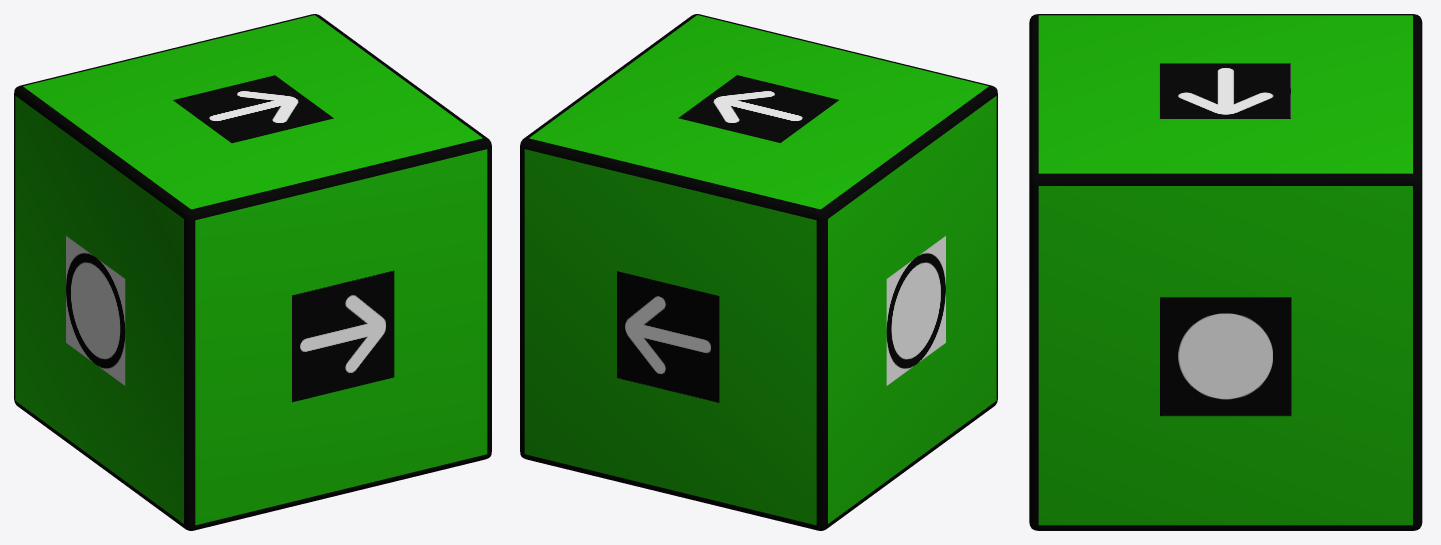
The model's file is BigBoxTapFlowBox_2_2_2_Line.fbx.
3 views of the same model, side by side, from view 1: azimuth 30°, elevation 25°; view 2: azimuth 150°, elevation 25°; view 3: azimuth 270°, elevation 25° (orthographic). The views are drawn at different scales.
Parts seen in each view (by area): view 1: BigBoxTapFlowBox_2_2_2; view 2: BigBoxTapFlowBox_2_2_2; view 3: BigBoxTapFlowBox_2_2_2.
Boxes of the visible parts, x1,y1,x2,y2 form: BigBoxTapFlowBox_2_2_2: [14, 14, 491, 530]; BigBoxTapFlowBox_2_2_2: [520, 14, 997, 530]; BigBoxTapFlowBox_2_2_2: [1029, 14, 1422, 530].
Bounding box in the file's own units: 2.14 × 2.13 × 2.13.
1 material, 1 textured.
